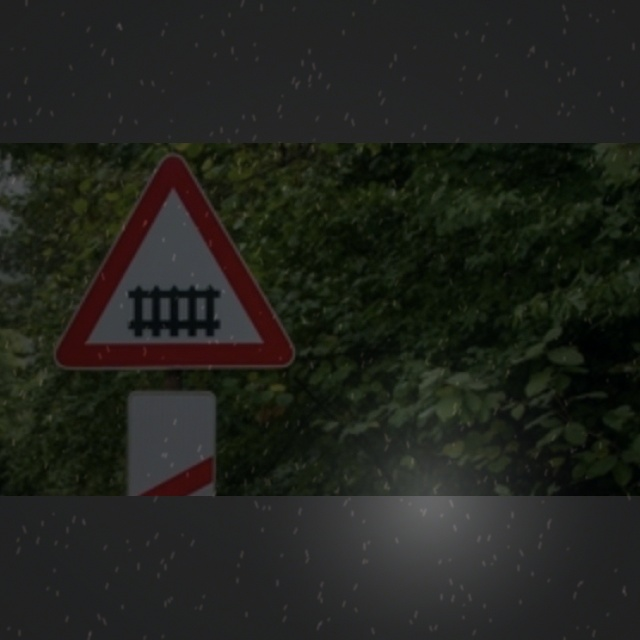Guarded_Level_Crossing: (58, 163, 289, 366)
